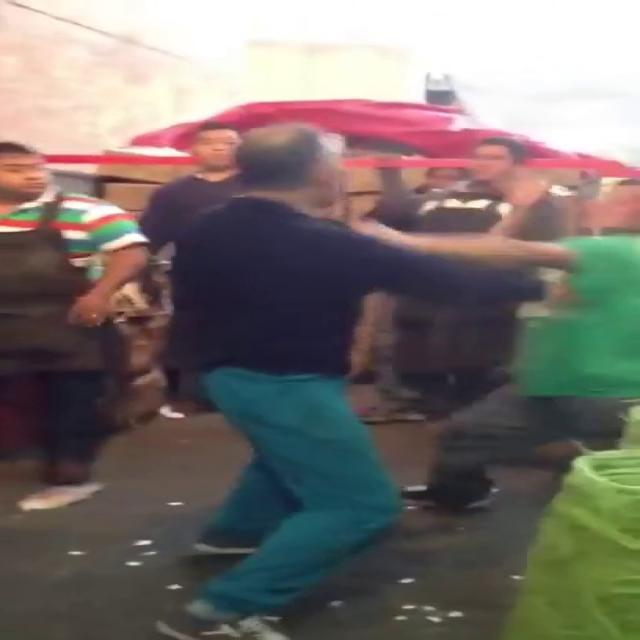violence: (180, 121, 640, 549)
